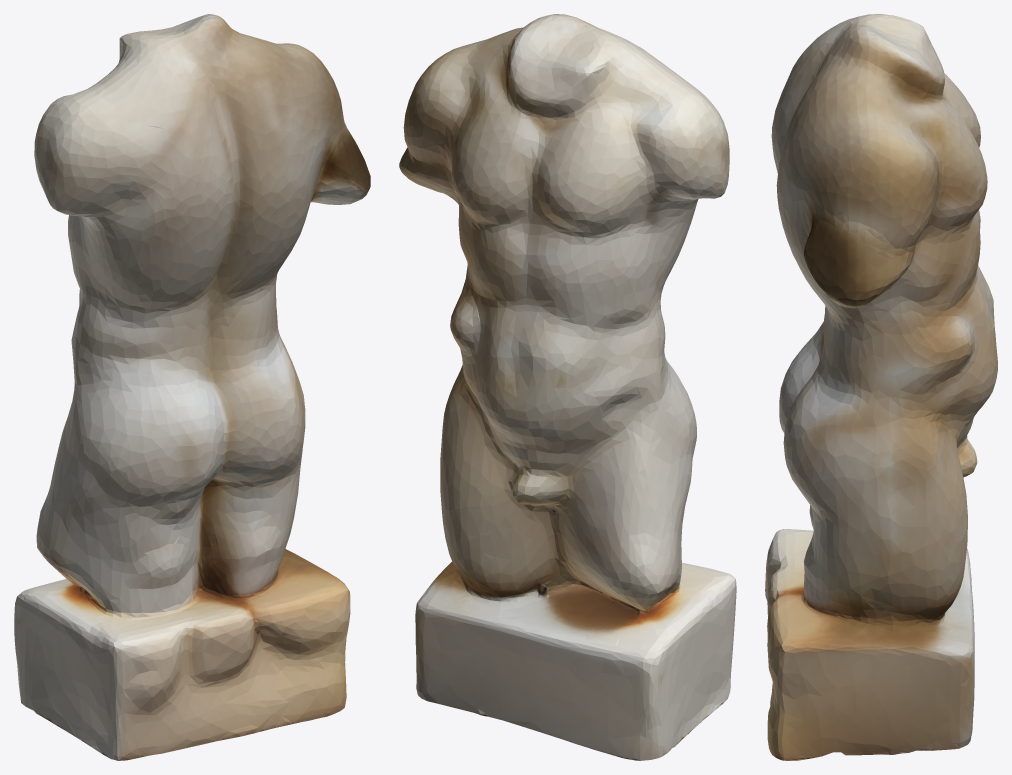
3 renders of one model, left to right at view 1: azimuth 30°, elevation 25°; view 2: azimuth 150°, elevation 25°; view 3: azimuth 270°, elevation 25°, orthographic.
Parts seen in each view (by area): view 1: world; view 2: world; view 3: world.
Boxes of the visible parts, x1,y1,x2,y2 form: world: (14, 14, 370, 760); world: (399, 14, 736, 760); world: (765, 14, 997, 760).
Size of the model in its own units: 0.4924 by 1 by 0.3091.
1 material, 1 textured.
